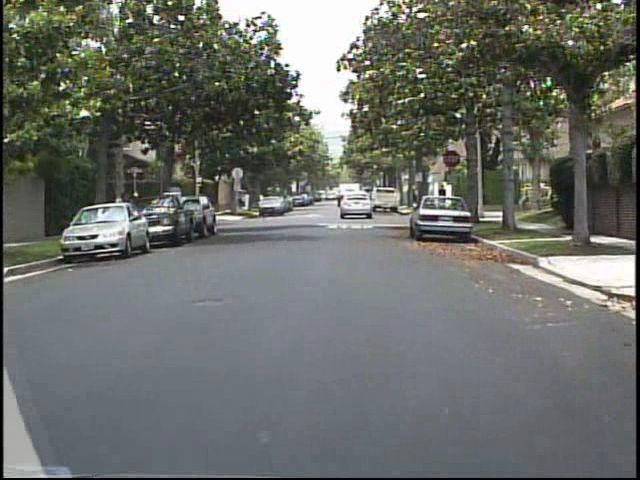person: (114, 190, 131, 232), (433, 180, 450, 213)
